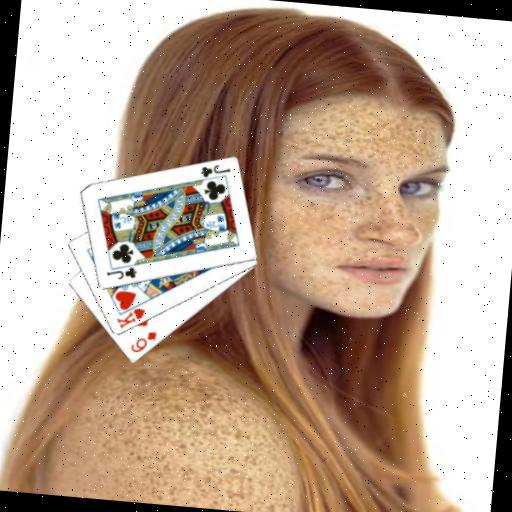6D: (127, 327, 158, 356)
JC: (103, 262, 138, 283), (197, 161, 232, 182)
KH: (113, 304, 147, 332)
